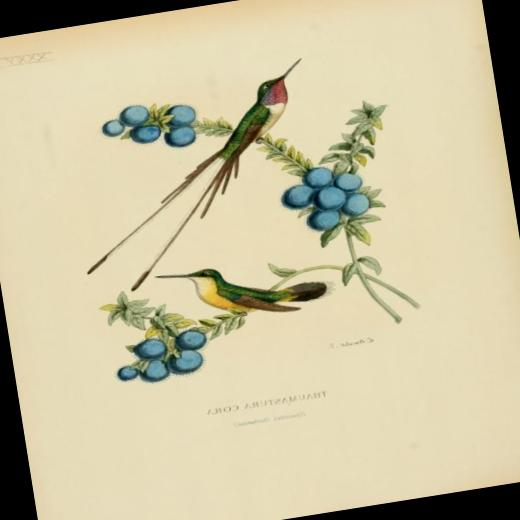Orange: (278, 158, 374, 237), (167, 349, 202, 377), (164, 100, 201, 126), (118, 105, 152, 131), (165, 123, 195, 148), (136, 340, 166, 363), (176, 330, 207, 352), (140, 360, 168, 384), (130, 121, 157, 144), (100, 119, 124, 138), (118, 366, 140, 382)
